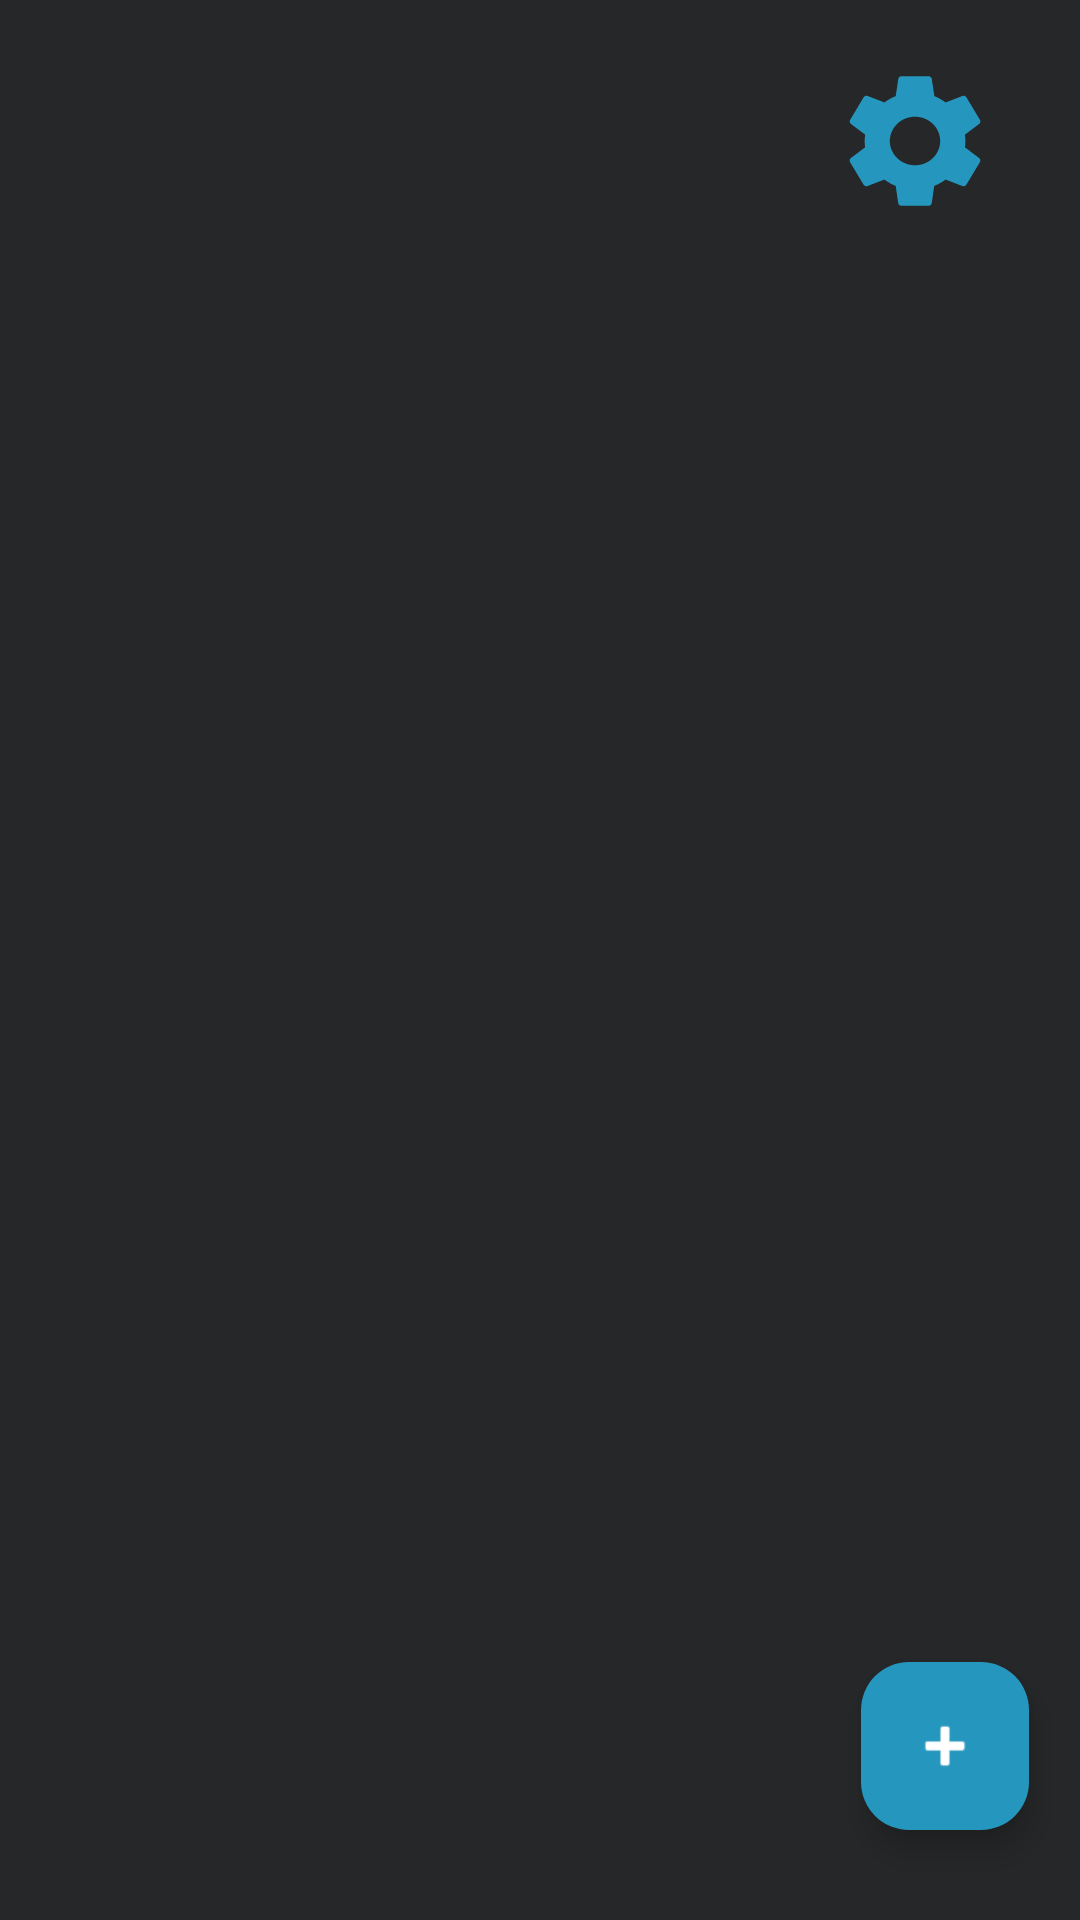

Icons on this 1080 × 1920 Android screen, each with its box as (x1=x1, y1=y1, x2=x2, y2=y2):
add: (x1=861, y1=1662, x2=1029, y2=1830)
settings: (x1=849, y1=76, x2=981, y2=206)
